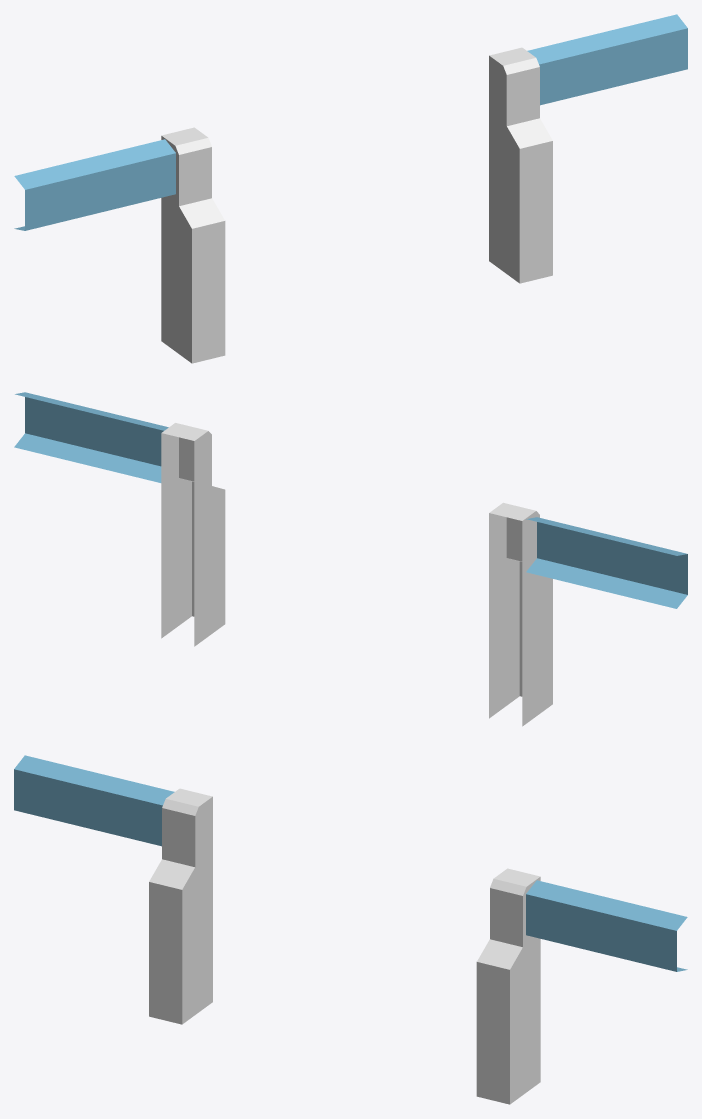
Rendered from DoorSingleLong_Wall_SideA.039.fbx.
The picture shows the model from 3 angles, top to bottom: view 1: azimuth 30°, elevation 25°; view 2: azimuth 150°, elevation 25°; view 3: azimuth 330°, elevation 25°; orthographic projection.
Visible parts, largest first — view 1: DoorSingleLong_Wall_SideA.039; view 2: DoorSingleLong_Wall_SideA.039; view 3: DoorSingleLong_Wall_SideA.039.
Boxes of the visible parts, bbox=[...] form: DoorSingleLong_Wall_SideA.039: bbox=[14, 14, 687, 363]; DoorSingleLong_Wall_SideA.039: bbox=[14, 392, 687, 726]; DoorSingleLong_Wall_SideA.039: bbox=[14, 755, 687, 1104].
Bounding box in the file's own units: 2 × 0.593 × 0.1603.
